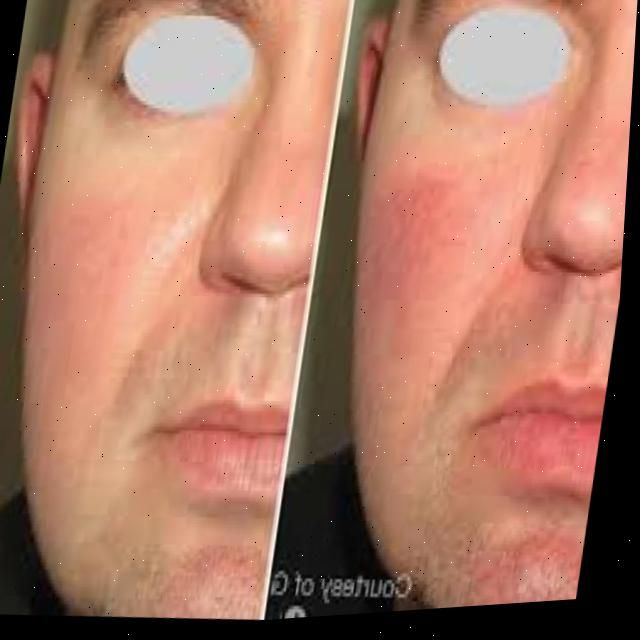Rosacea: (366, 156, 483, 311)
